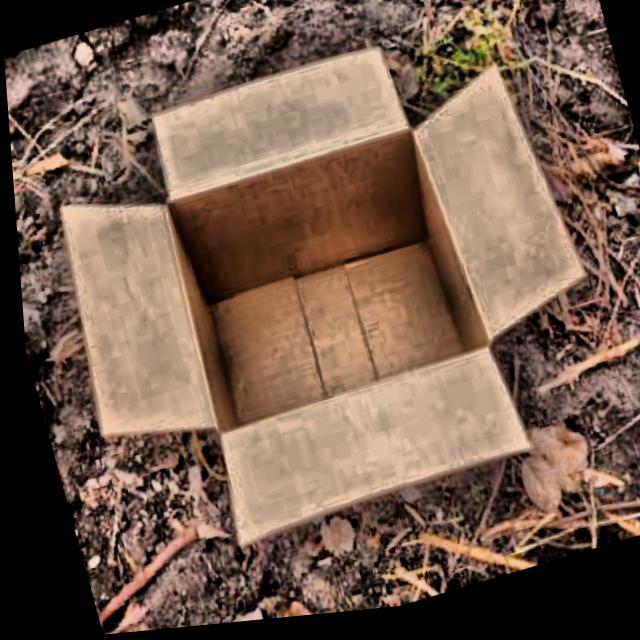Cardbox: (2, 0, 640, 610)
